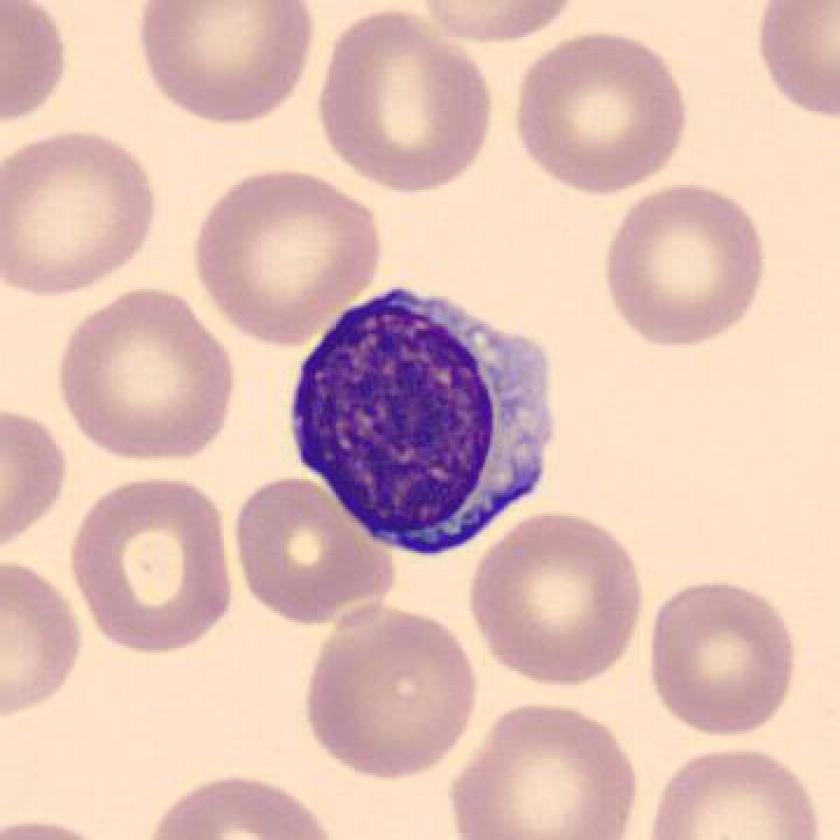lymphocyte: (274, 269, 580, 568)
